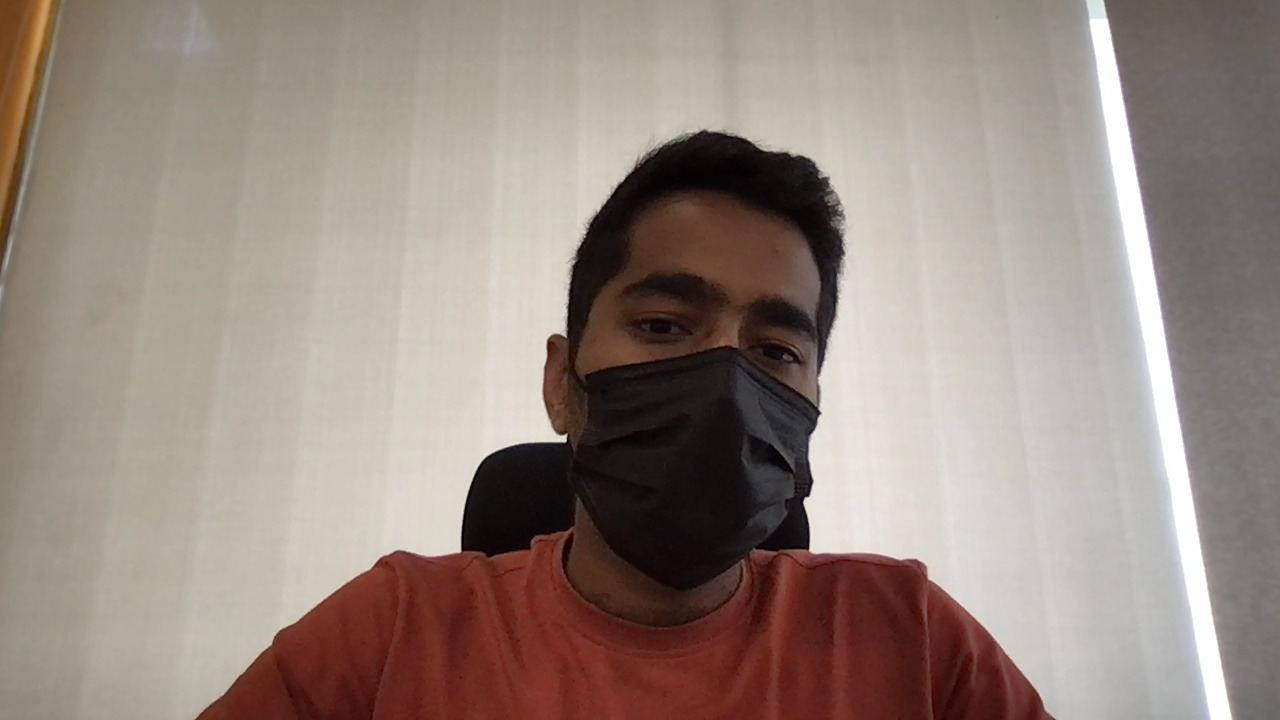mask: (567, 347, 821, 591)
